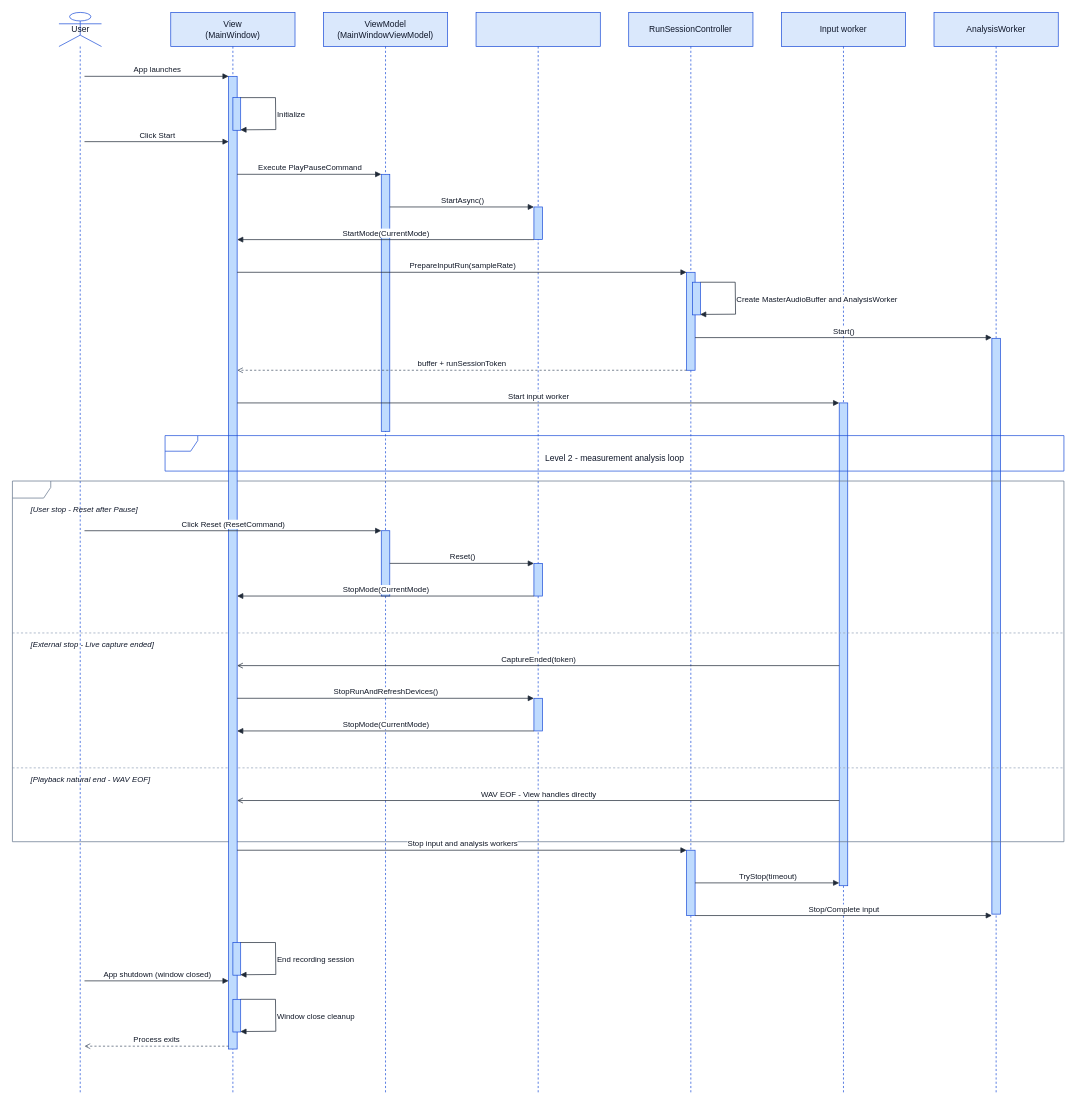
Some shapes in this 1077 by 1105 pixel diagram are drawn without their labels. Here are the shapes that lost their labels. From the top down, the box of each, then its label:
(164, 435, 1064, 471): ref
(475, 12, 600, 1093): RunCommandService
(12, 480, 1064, 842): alt
